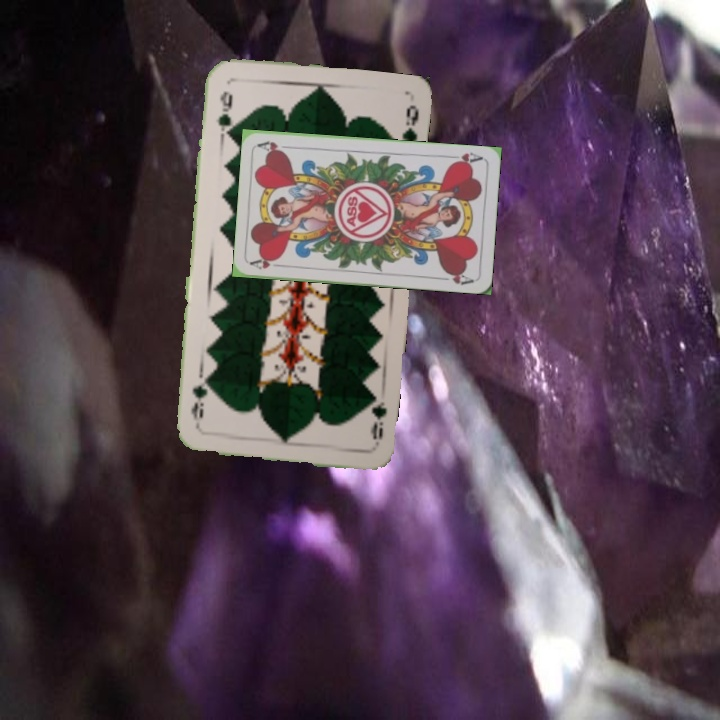G9: (363, 387, 389, 447), (213, 87, 235, 139)
HA: (444, 149, 485, 168), (247, 254, 288, 272)
